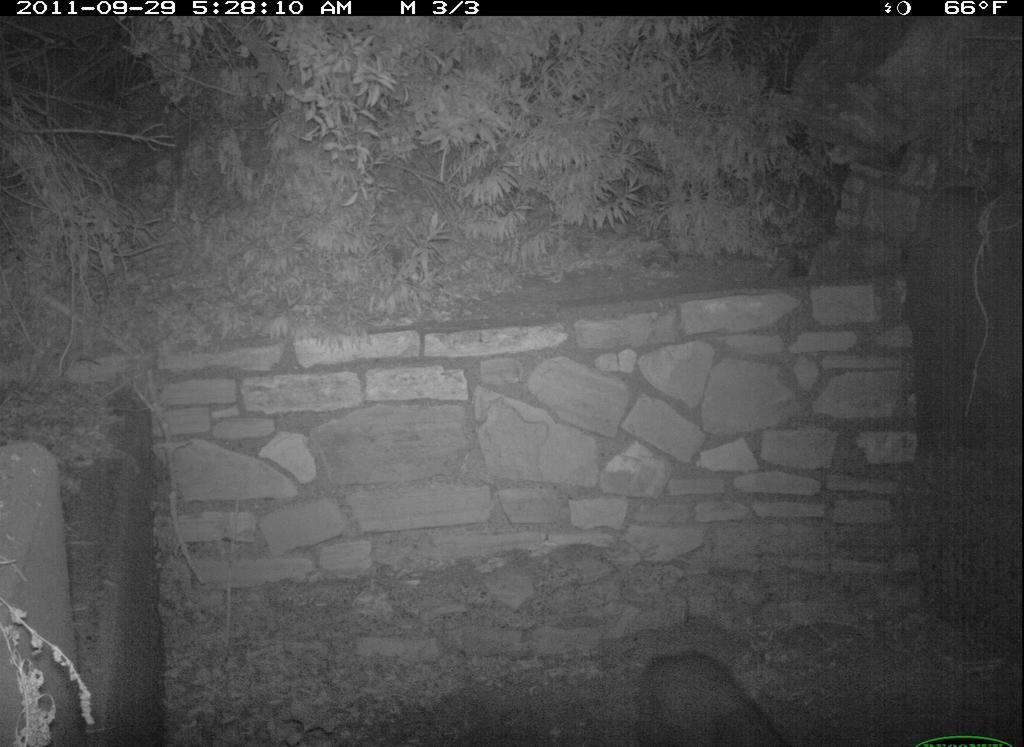raccoon: (619, 634, 792, 747)
